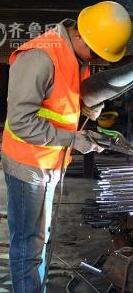gloves: (72, 129, 107, 154), (81, 102, 105, 121)
hard-hat: (77, 0, 131, 63)
vest: (0, 19, 98, 175)
